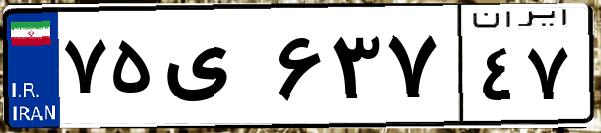3: (330, 28, 385, 110)
4: (475, 38, 525, 113)
5: (110, 28, 158, 98)
6: (270, 28, 330, 110)
7: (385, 28, 445, 110), (57, 26, 110, 100), (525, 38, 570, 115)
ی: (158, 20, 270, 120)
